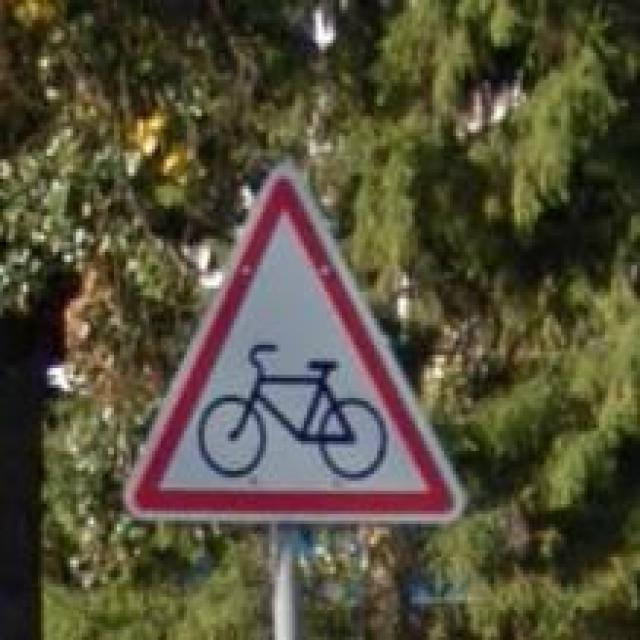traffic_sign: (128, 162, 470, 518)
